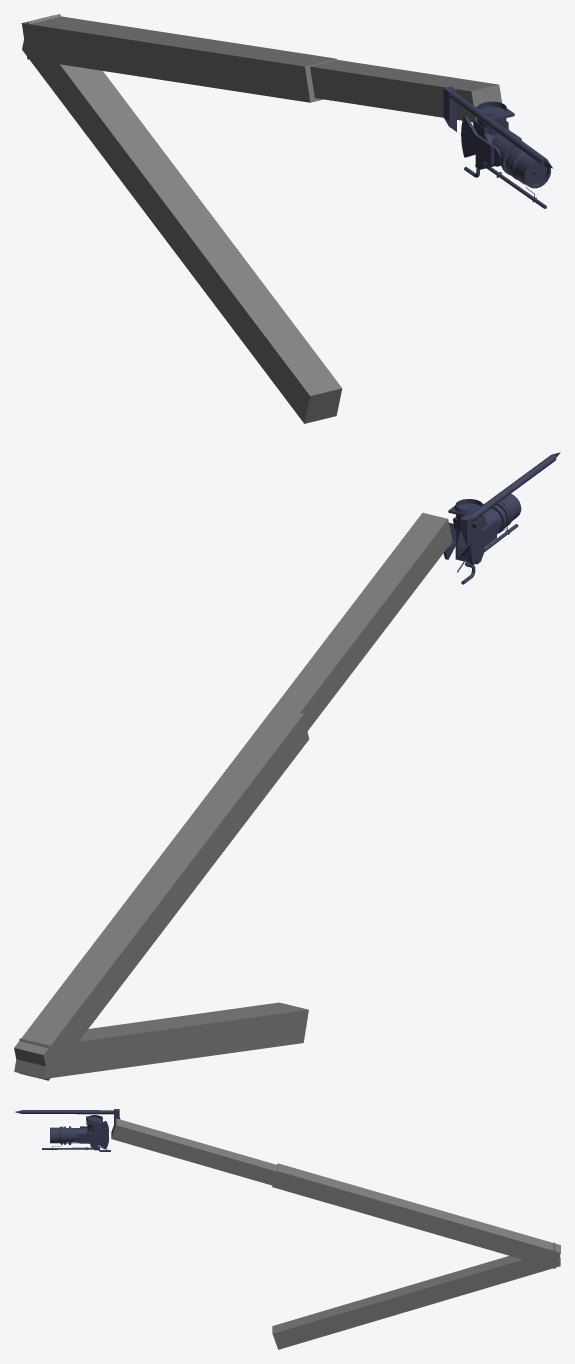
Rendered from HRET.glb.
3 views of the same model, one above another, from view 1: azimuth 30°, elevation 25°; view 2: azimuth 150°, elevation 25°; view 3: azimuth 270°, elevation 25° (orthographic). The views are drawn at different scales.
Visible parts, largest first — view 1: Cube, Cube.001, Cube.002, Object_99; view 2: Cube.001, Cube, Cube.002, Object_99; view 3: Cube, Cube.002, Cube.001, Object_99.
Boxes of the visible parts, x1,y1,x2,y2 form: Cube: (22,14,342,423); Cube.001: (21,15,336,102); Cube.002: (310,59,501,122); Object_99: (443,86,552,208); Cube.001: (14,706,309,1080); Cube: (14,1002,308,1078); Cube.002: (275,512,452,730); Object_99: (443,452,560,584); Cube: (272,1242,560,1349); Cube.002: (111,1118,399,1220); Cube.001: (272,1163,560,1268); Object_99: (15,1109,120,1151).
Bounding box in the file's own units: 2.43 × 20.34 × 44.17.
